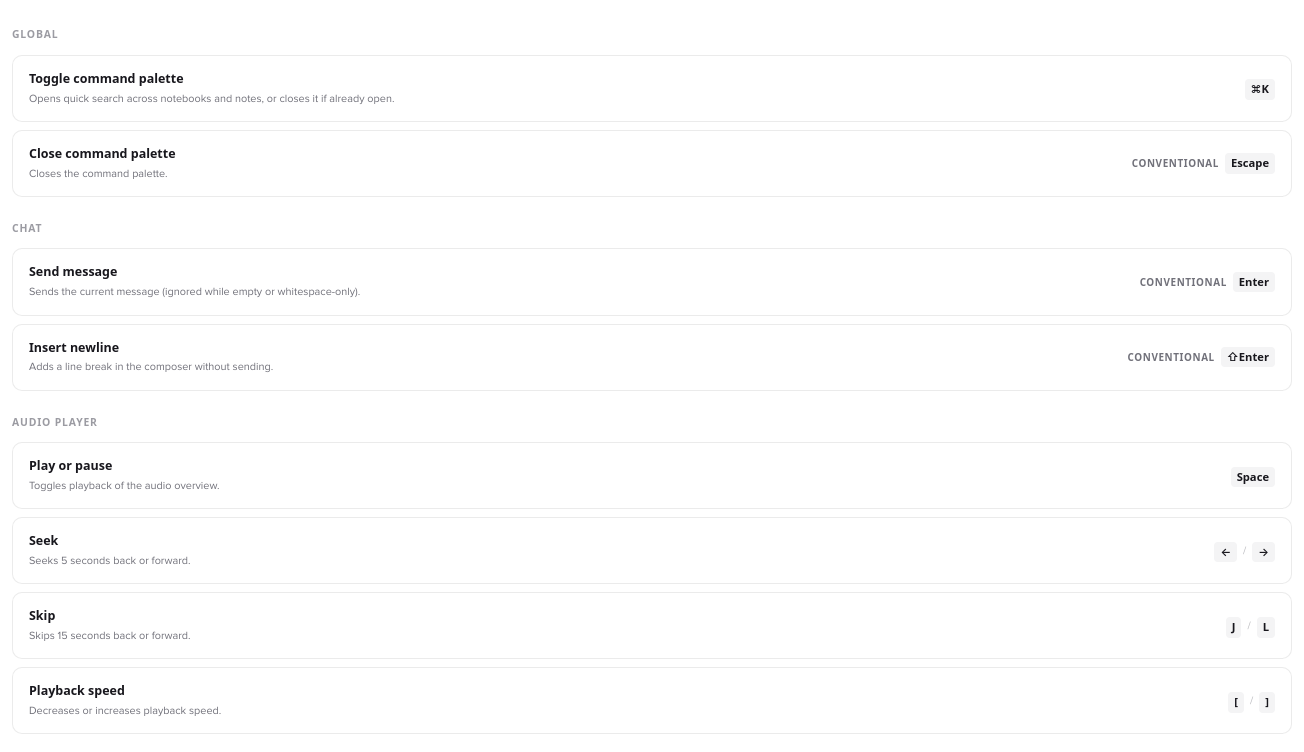
Test: ShortcutsSection rebinding › re-validates against the config the write mutates, not the snapshot the UI validated
The width and height of the screenshot is (1304, 752).
Click the button "L": (1266, 626) [1257, 614, 1275, 638]
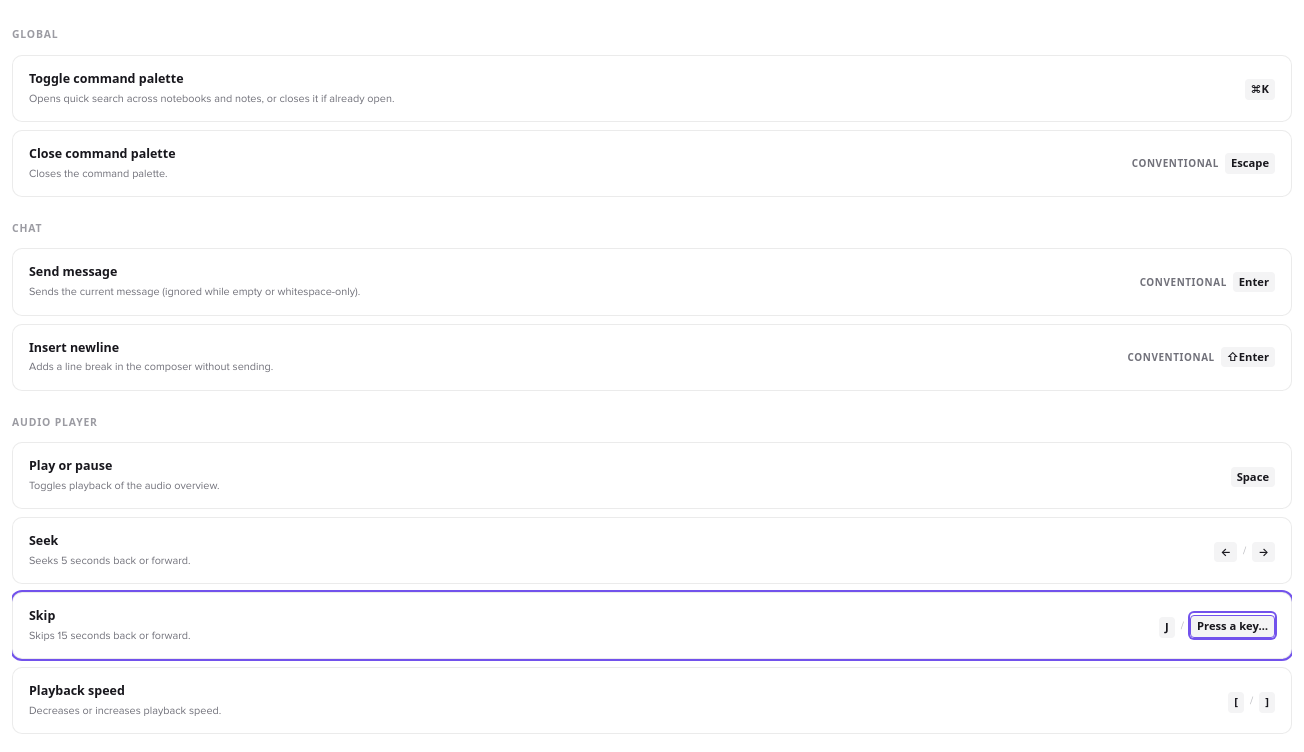
Press q in the button "Press a key…", box [1190, 613, 1275, 638]
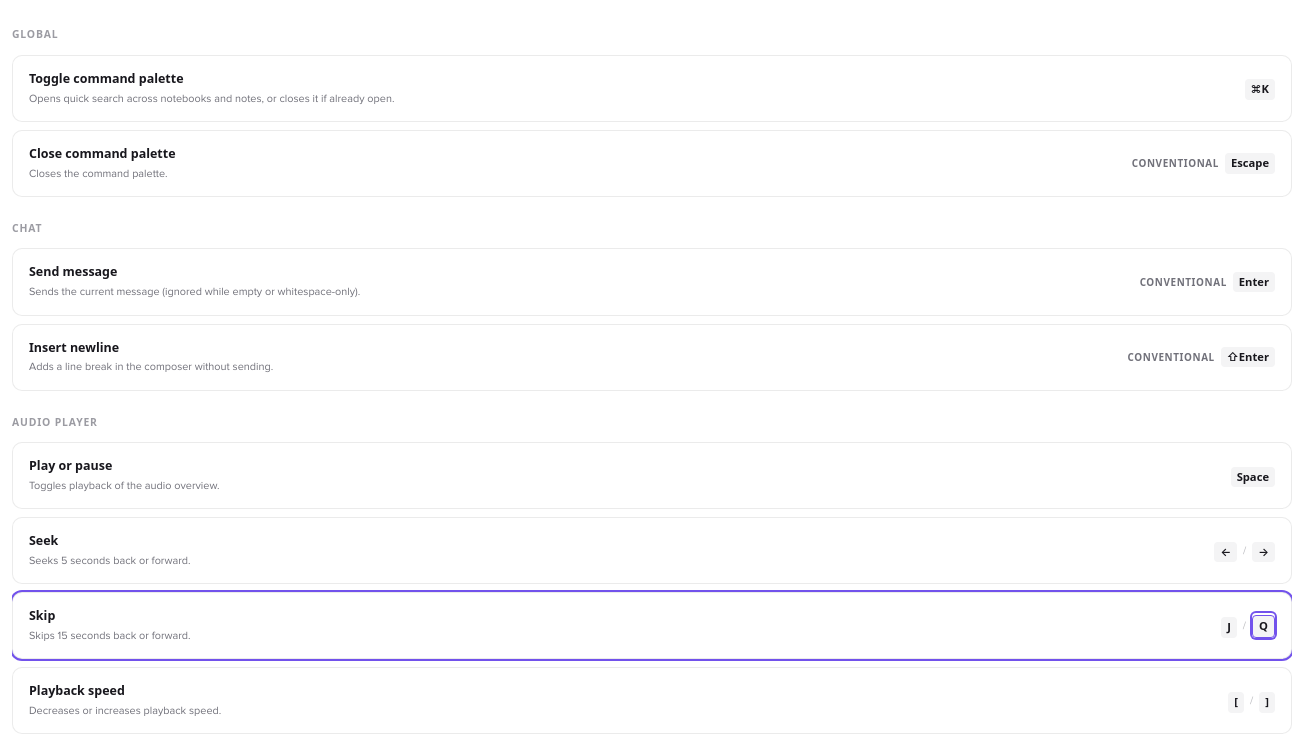
Check: the text "already used by" is not shown
Press Enter in the button "Q", box [1252, 613, 1275, 638]
(page scrolled)
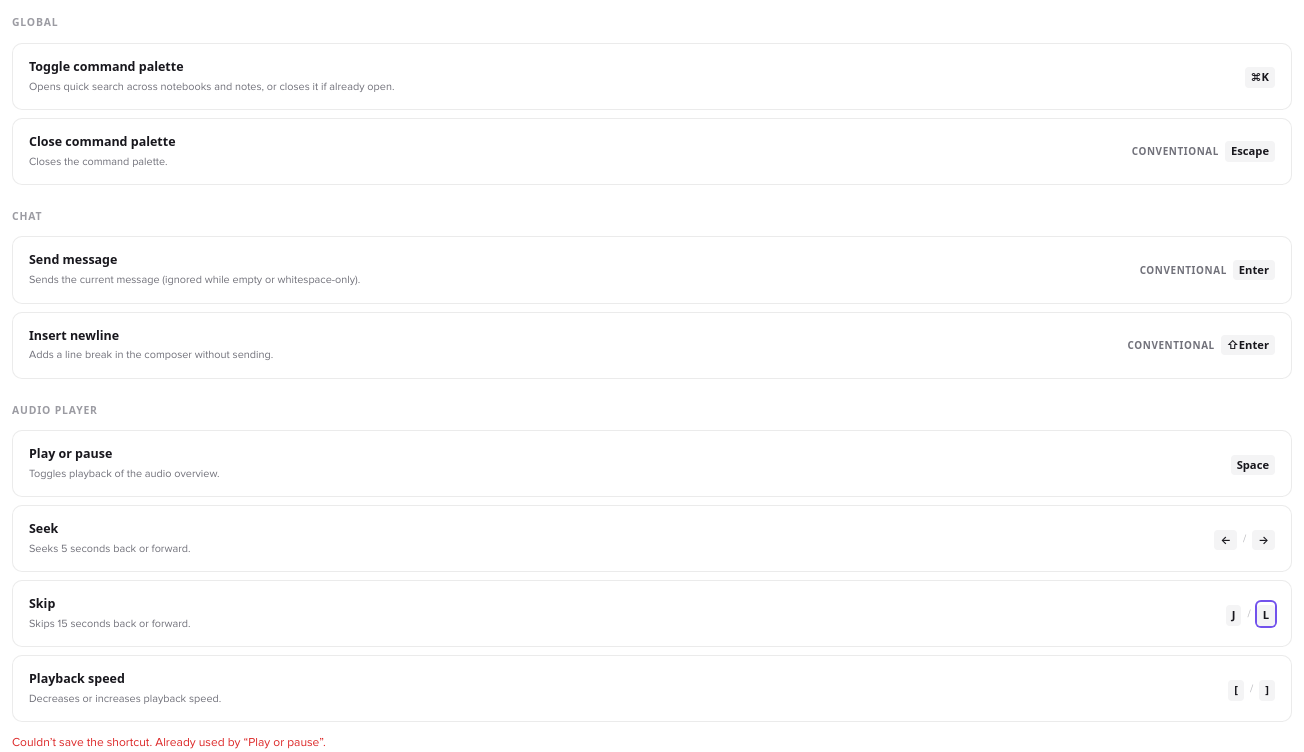
Check: the message shows "Already used by", box [12, 735, 326, 750]
